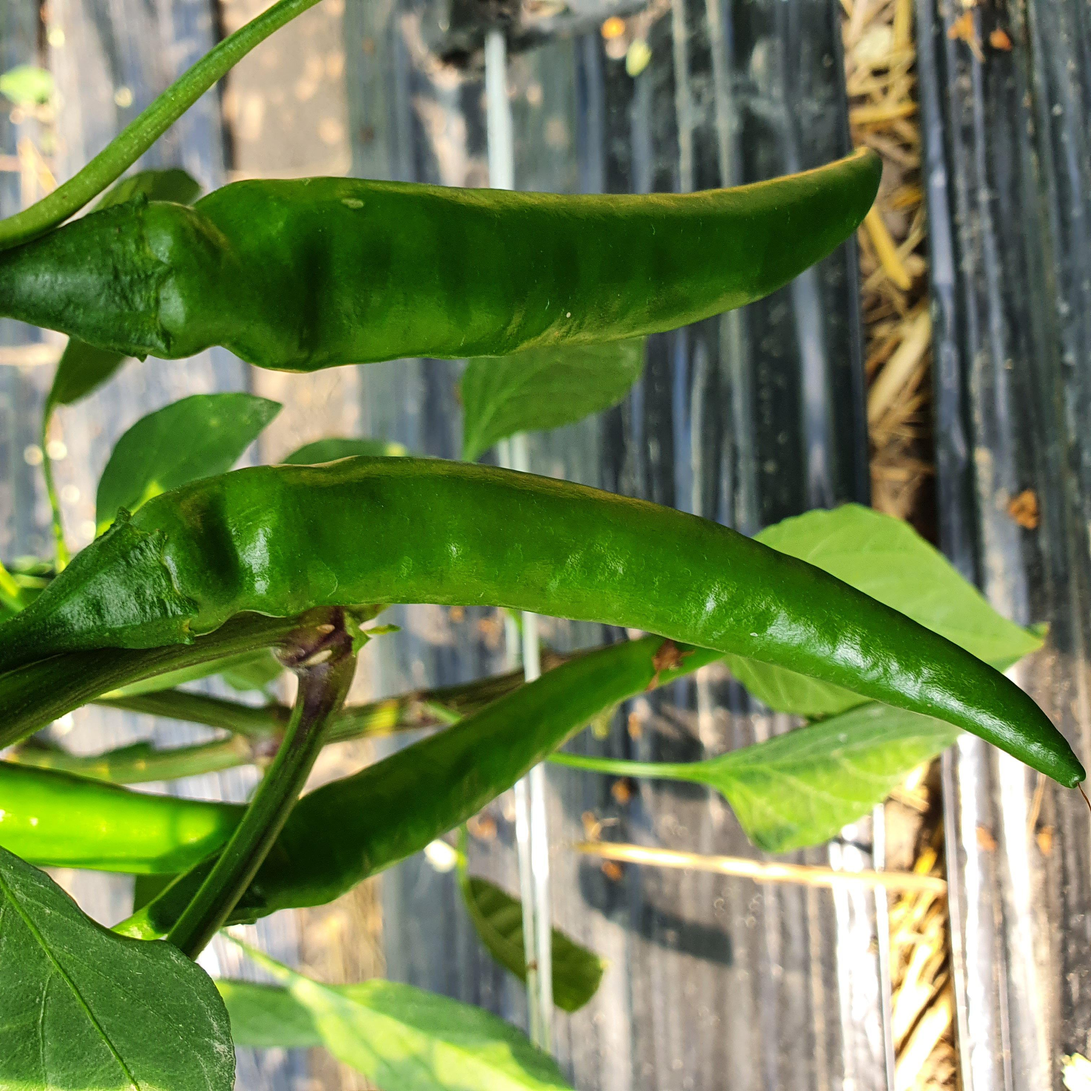Buah Cabai Sehat: (61, 452, 1087, 810), (5, 143, 890, 375)
